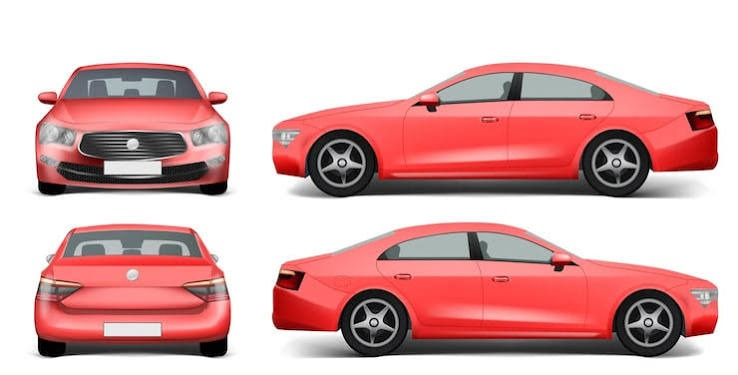car: (271, 224, 715, 360), (294, 64, 715, 195), (23, 223, 235, 356), (32, 62, 239, 194)
